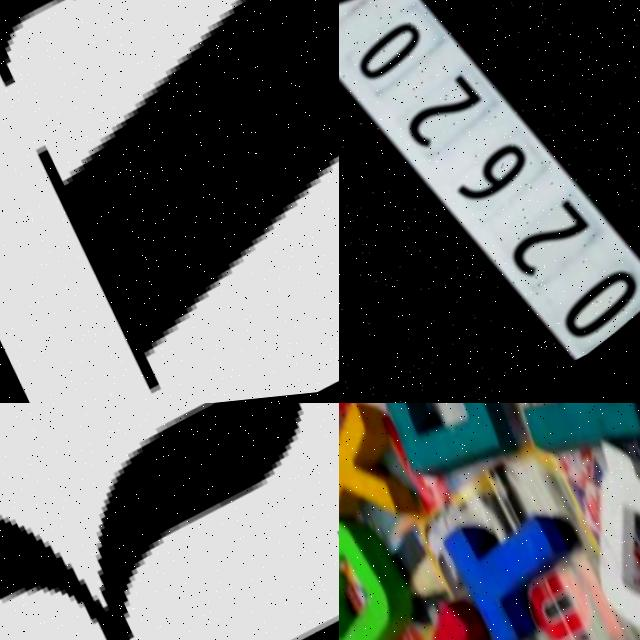0: (529, 261, 640, 375), (339, 12, 440, 112)
2: (478, 194, 606, 314), (377, 67, 498, 182)
4: (339, 0, 398, 51)
6: (430, 135, 547, 244)
A: (379, 587, 546, 640)
C: (339, 506, 419, 640)
D: (353, 403, 513, 503)
K: (482, 403, 640, 490)
Q: (546, 426, 640, 640)
R: (0, 403, 339, 640)
T: (431, 491, 584, 640)
V: (0, 0, 339, 403)
X: (339, 403, 412, 543)
